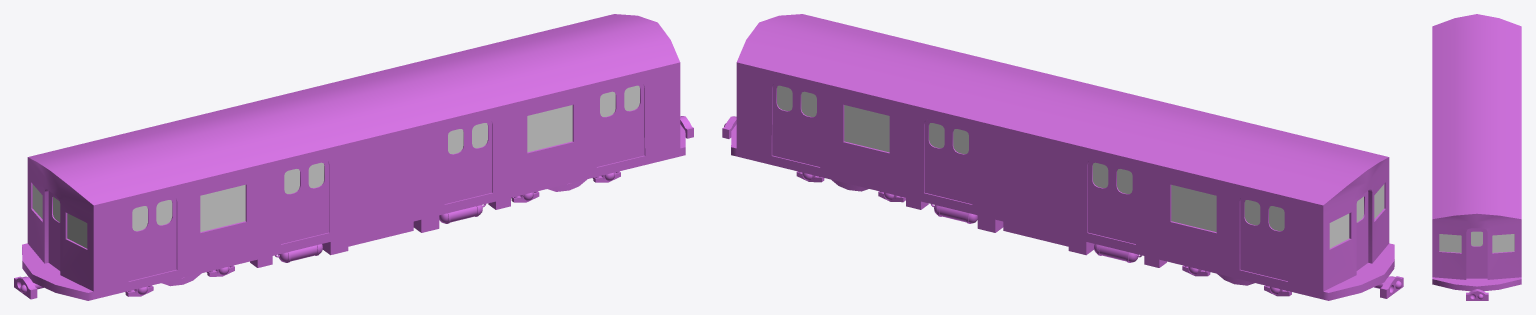
Rendered from Traincart.fbx.
3 views of the same model, side by side, from view 1: azimuth 30°, elevation 25°; view 2: azimuth 150°, elevation 25°; view 3: azimuth 270°, elevation 25° (orthographic). The views are drawn at different scales.
Visible parts, largest first — view 1: Train cart v2, Train cart v2.001; view 2: Train cart v2, Train cart v2.001; view 3: Train cart v2, Train cart v2.001.
Part boxes in pixels (left/top/right/bottom): Train cart v2: left=14, top=14, right=693, bottom=300; Train cart v2.001: left=32, top=85, right=639, bottom=248; Train cart v2: left=722, top=14, right=1403, bottom=300; Train cart v2.001: left=777, top=85, right=1384, bottom=248; Train cart v2: left=1432, top=14, right=1521, bottom=300; Train cart v2.001: left=1439, top=231, right=1514, bottom=252.
Bounding box in the file's own units: 17.59 × 3.3 × 3.
